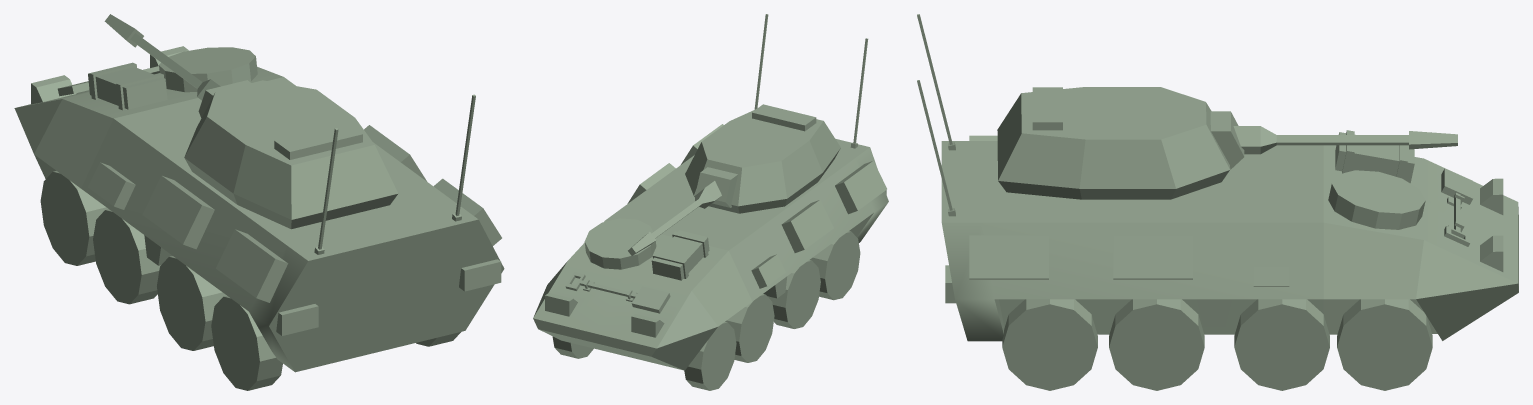
The model's file is apc_01_body.fbx.
The picture shows the model from 3 angles, left to right: view 1: azimuth 30°, elevation 25°; view 2: azimuth 150°, elevation 25°; view 3: azimuth 270°, elevation 25°; orthographic projection. The views are drawn at different scales.
Visible parts, largest first — view 1: apc_01_body, turret, wheel_l2, wheel_l4, wheel_l3, wheel_fl, barrel; view 2: apc_01_body, turret, wheel_l3, wheel_fl, wheel_l4, wheel_l2, barrel, wheel_fr; view 3: apc_01_body, turret, wheel_r3, wheel_fr, wheel_r2, wheel_r4, barrel.
Part boxes in pixels (x1=…): apc_01_body: x1=14, y1=46, x2=504, y2=372; turret: x1=184, y1=80, x2=398, y2=229; wheel_l2: x1=93, y1=209, x2=160, y2=304; wheel_l4: x1=211, y1=296, x2=282, y2=390; wheel_l3: x1=157, y1=256, x2=226, y2=350; wheel_fl: x1=40, y1=171, x2=108, y2=265; barrel: x1=104, y1=14, x2=250, y2=117; apc_01_body: x1=533, y1=14, x2=888, y2=370; turret: x1=685, y1=104, x2=840, y2=213; wheel_l3: x1=768, y1=260, x2=820, y2=328; wheel_fl: x1=684, y1=322, x2=736, y2=390; wheel_l4: x1=810, y1=231, x2=860, y2=300; wheel_l2: x1=725, y1=294, x2=774, y2=362; barrel: x1=628, y1=167, x2=737, y2=255; wheel_fr: x1=552, y1=336, x2=593, y2=358; apc_01_body: x1=917, y1=14, x2=1518, y2=341; turret: x1=997, y1=87, x2=1230, y2=199; wheel_r3: x1=1109, y1=299, x2=1204, y2=390; wheel_fr: x1=1337, y1=299, x2=1432, y2=390; wheel_r2: x1=1234, y1=299, x2=1329, y2=390; wheel_r4: x1=1002, y1=299, x2=1097, y2=390; barrel: x1=1210, y1=111, x2=1457, y2=169.
Bounding box in the file's own units: 4.25 × 4.91 × 9.11.
